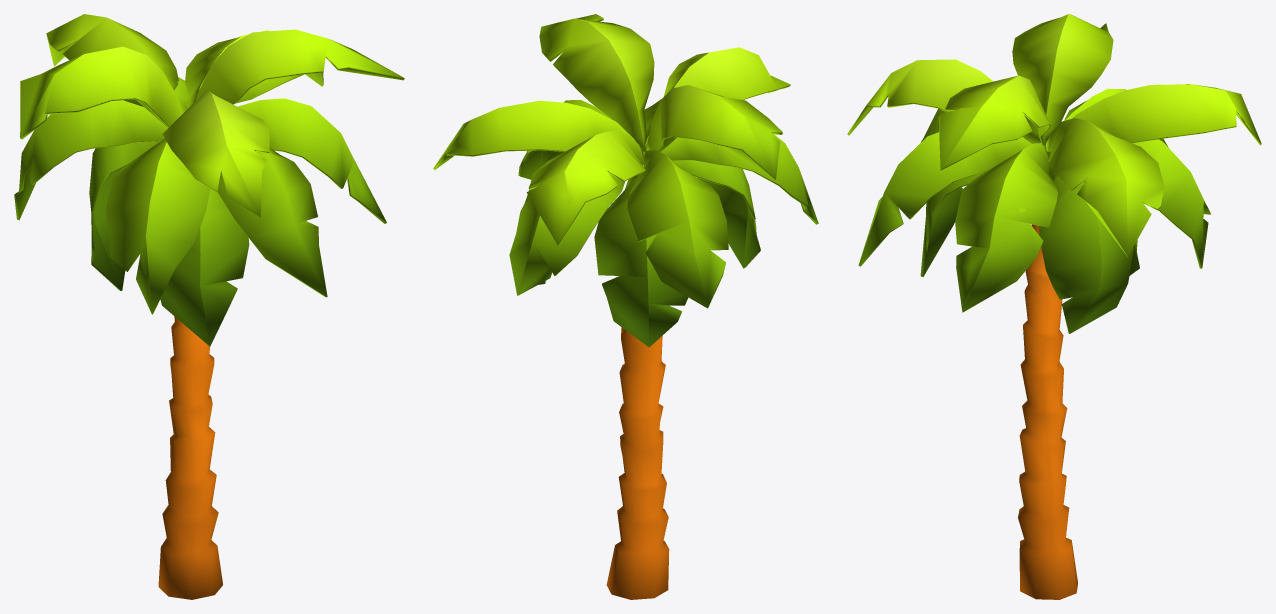
Rendered from Plant_Palm_01.fbx.
3 renders of one model, left to right at view 1: azimuth 30°, elevation 25°; view 2: azimuth 150°, elevation 25°; view 3: azimuth 270°, elevation 25°, orthographic. The views are drawn at different scales.
Visible parts, largest first — view 1: Plant_Palm_01; view 2: Plant_Palm_01; view 3: Plant_Palm_01.
Part boxes in pixels (box(x1,y1,x2,y2)): Plant_Palm_01: box(14, 14, 404, 599); Plant_Palm_01: box(433, 14, 818, 599); Plant_Palm_01: box(847, 14, 1261, 599).
Size of the model in its own units: 275 by 441 by 309.
